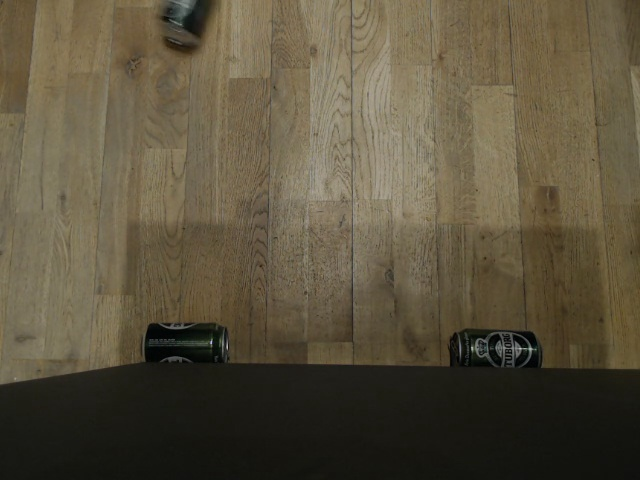beer: (448, 327, 544, 369), (138, 321, 231, 363), (156, 0, 211, 45)
